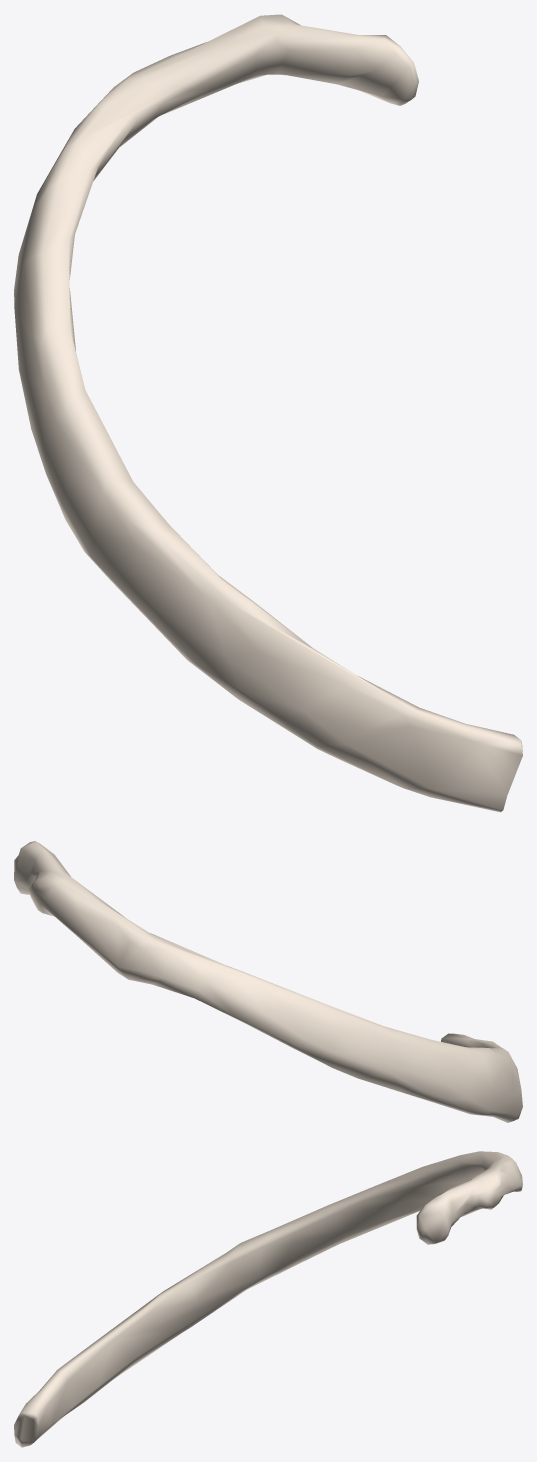
File: right_rib_4.glb
3 renders of one model, top to bottom at view 1: azimuth 30°, elevation 25°; view 2: azimuth 150°, elevation 25°; view 3: azimuth 270°, elevation 25°, orthographic. The views are drawn at different scales.
Visible parts, largest first — view 1: Rib (4th).r; view 2: Rib (4th).r; view 3: Rib (4th).r.
Part boxes in pixels (box(x1,y1,x2,y2)): Rib (4th).r: box(14, 14, 522, 812); Rib (4th).r: box(14, 841, 522, 1122); Rib (4th).r: box(14, 1151, 522, 1447).
Size of the model in its own units: 0.1109 by 0.1162 by 0.1688.
